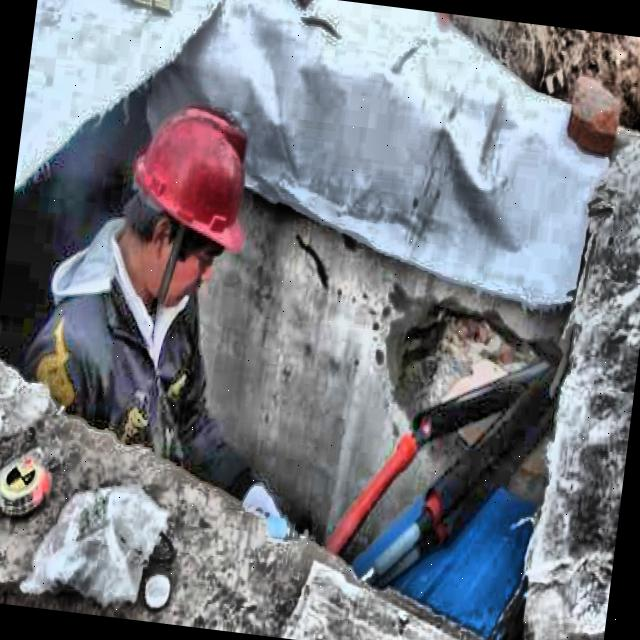helmet: (105, 70, 271, 325)
